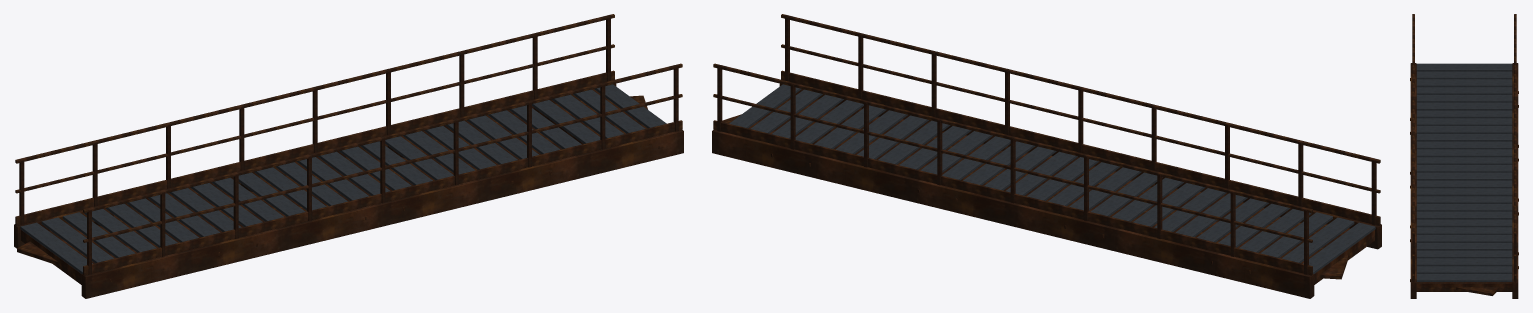
The model's file is steel_gantry.glb.
The picture shows the model from 3 angles, left to right: view 1: azimuth 30°, elevation 25°; view 2: azimuth 150°, elevation 25°; view 3: azimuth 270°, elevation 25°; orthographic projection. The views are drawn at different scales.
Parts seen in each view (by area): view 1: SteelGantry; view 2: SteelGantry; view 3: SteelGantry.
Boxes of the visible parts, box(x1,y1,x2,y2) form: SteelGantry: box(14, 14, 683, 298); SteelGantry: box(712, 14, 1381, 298); SteelGantry: box(1410, 14, 1518, 298).
Size of the model in its own units: 10.47 by 1.4 by 2.1.
Materials: 2 (2 with a texture image).
